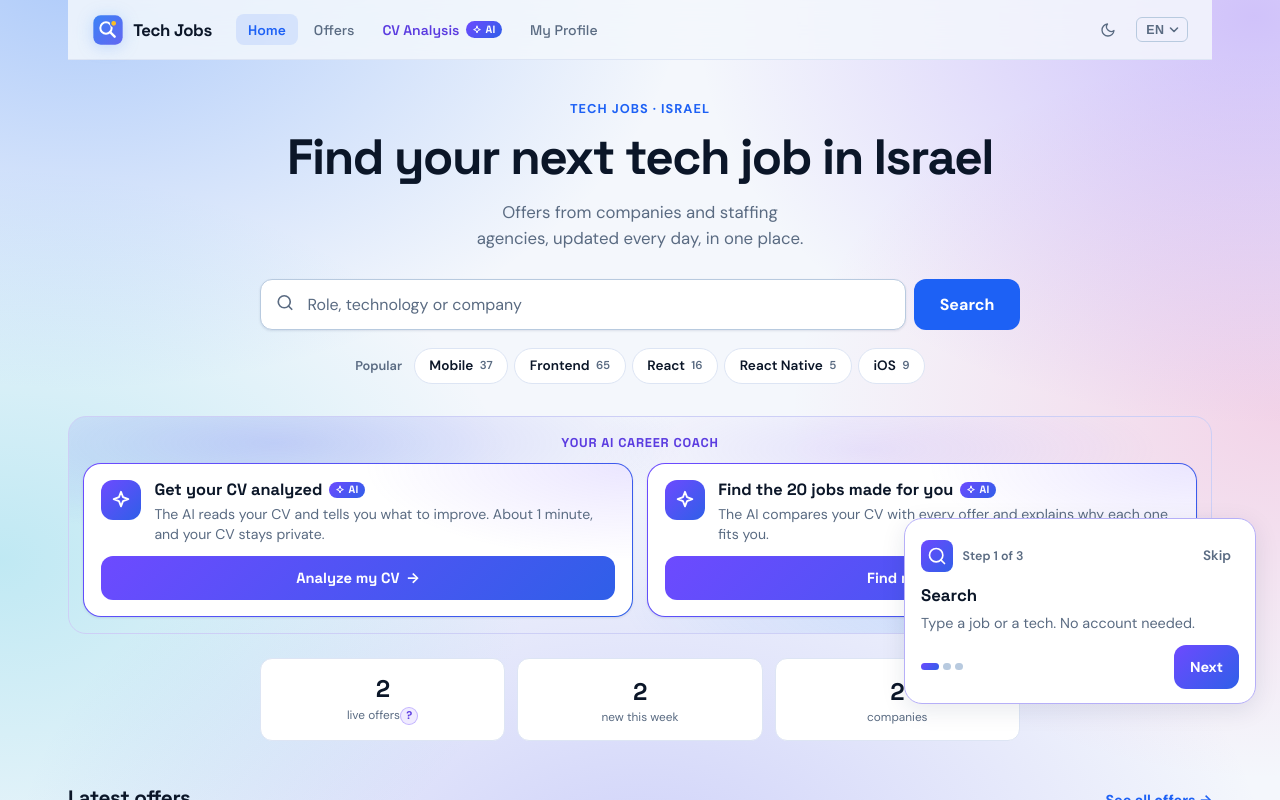
Scenario: Autocomplete on the home page (integration) › picking a technology (with the keyboard) searches for it
Type "react nat" into the dropdown named "Search offers" at {"x": 583, "y": 305}, box [260,279,906,330]
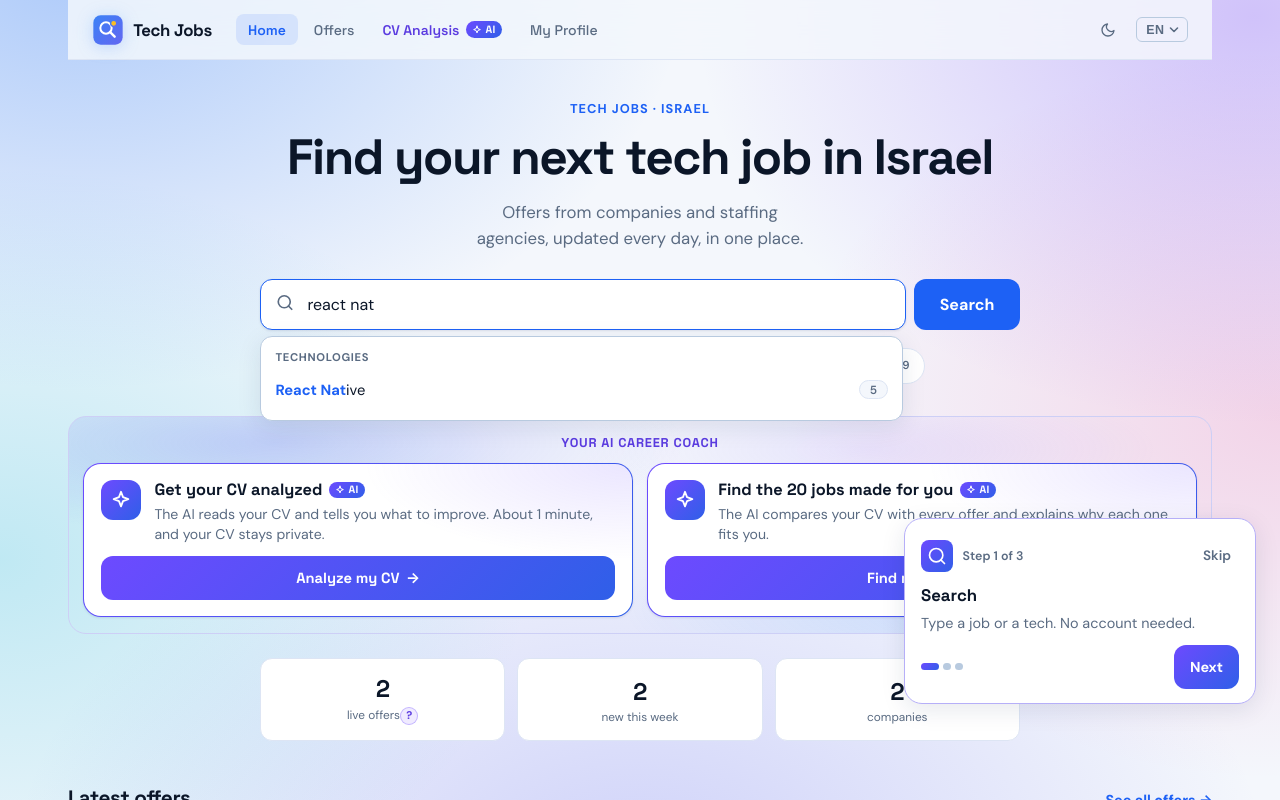
Expected: the option named "React Native5" is shown, [275,380,888,400]
Press Arrowdown Enter
(page scrolled)
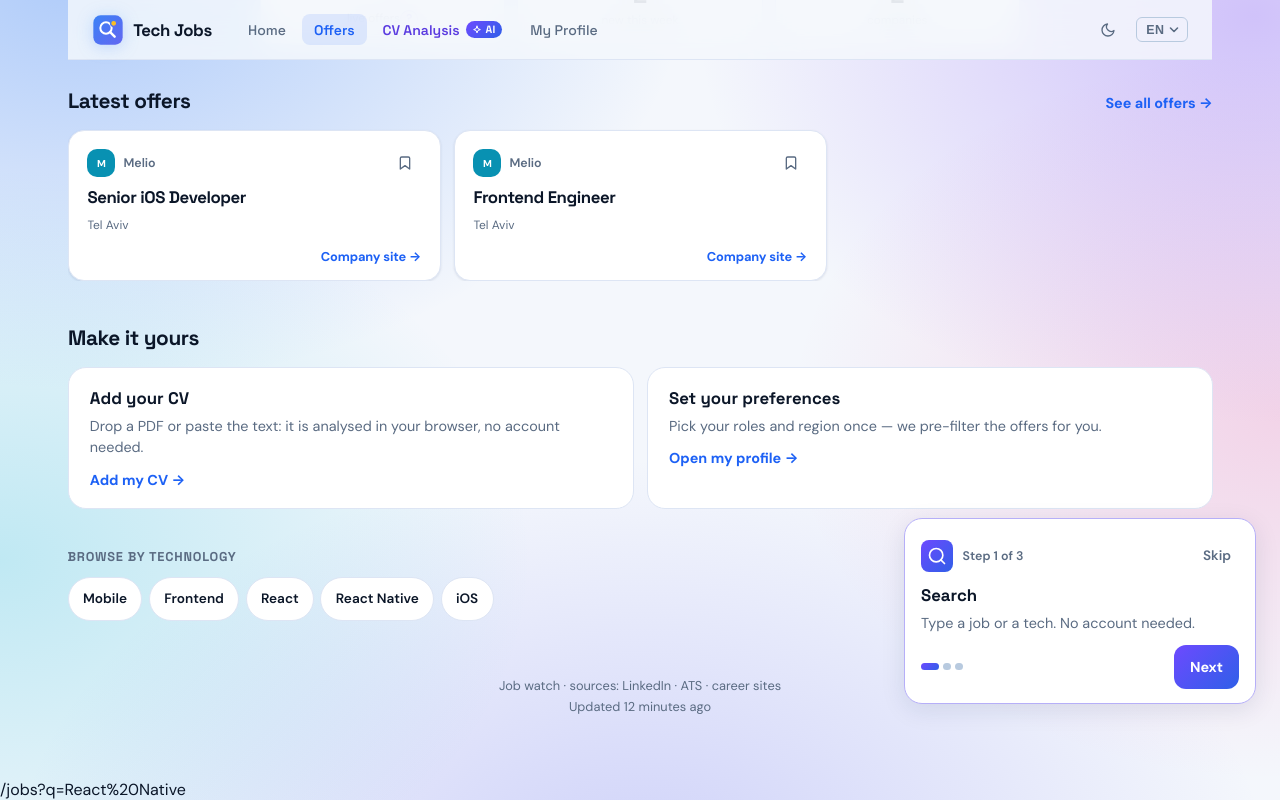
Expected: the text with test id "location" reads "/jobs?q=React%20Native", [0,779,186,799]
